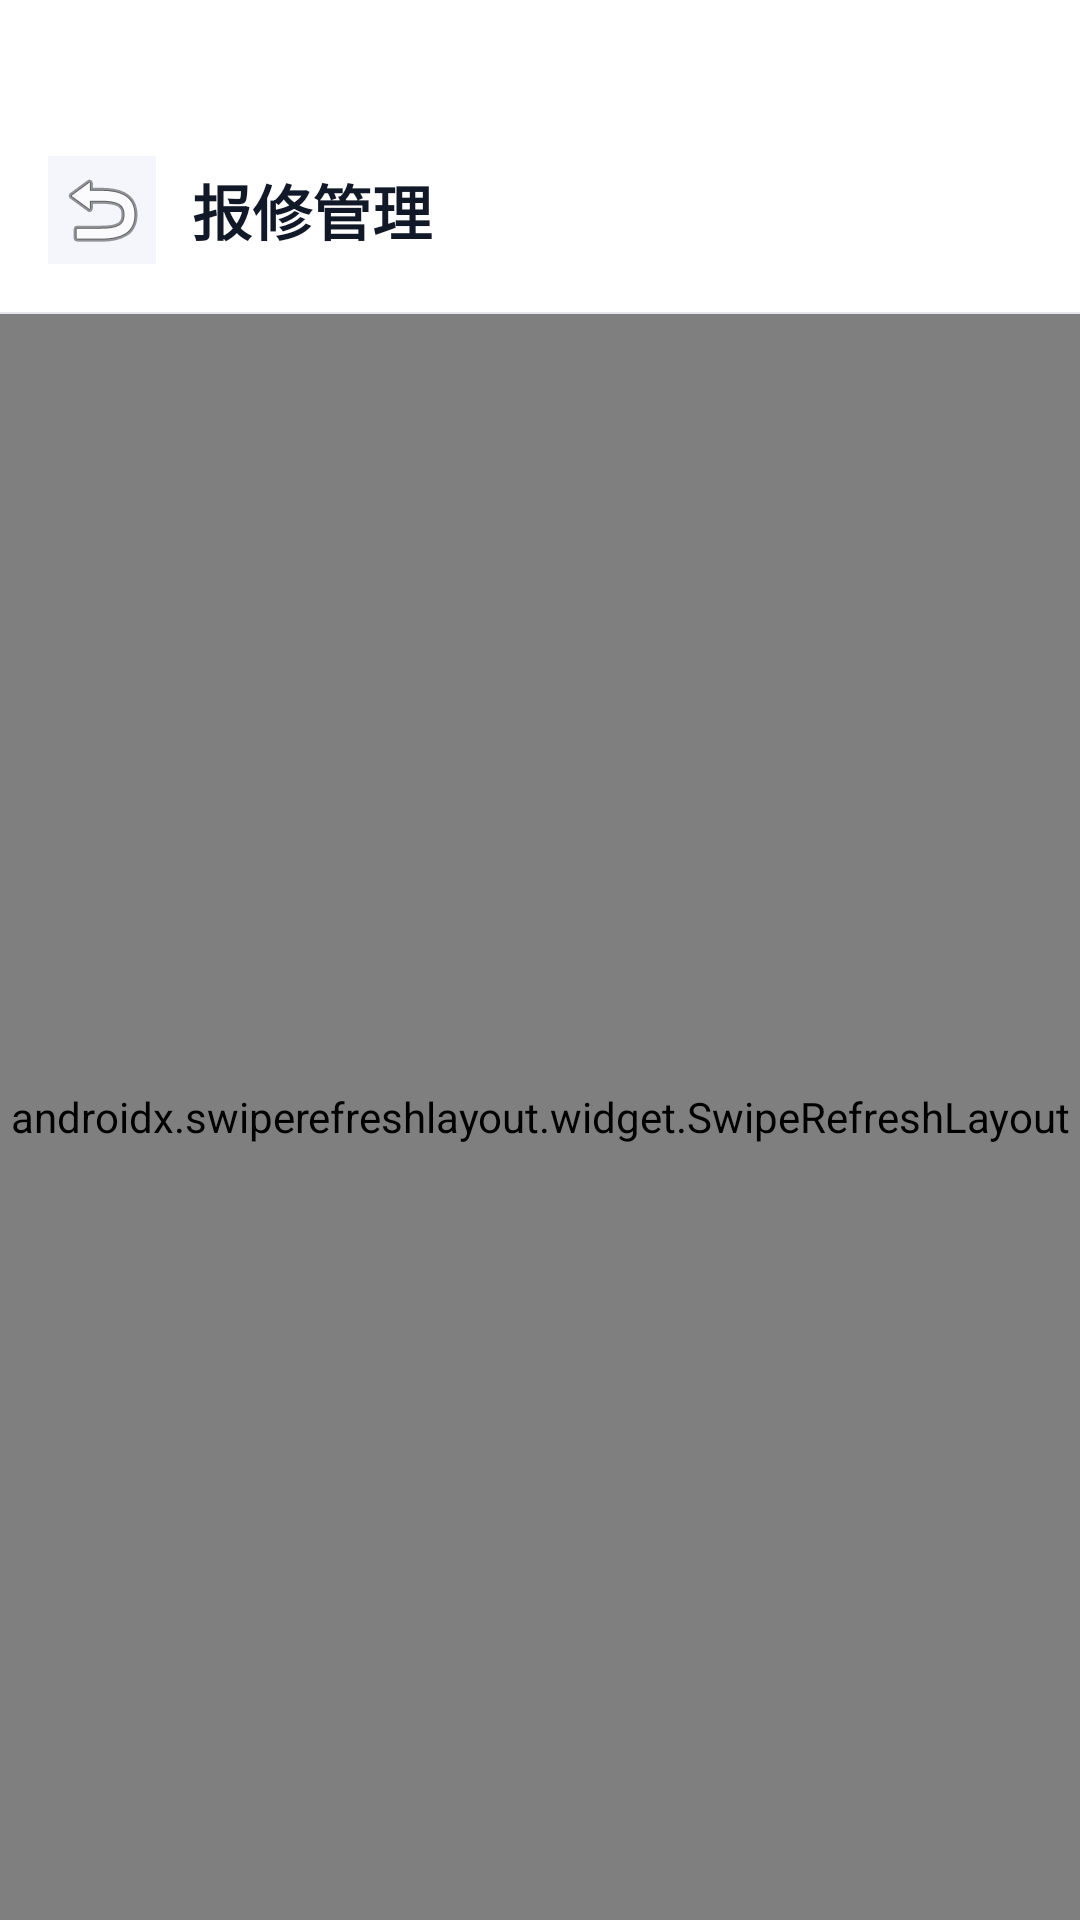

Where icons sit on this 1080 x 1920 app screen, as detection(x1, y1, x2, y2):
返回: detection(48, 156, 156, 264)
